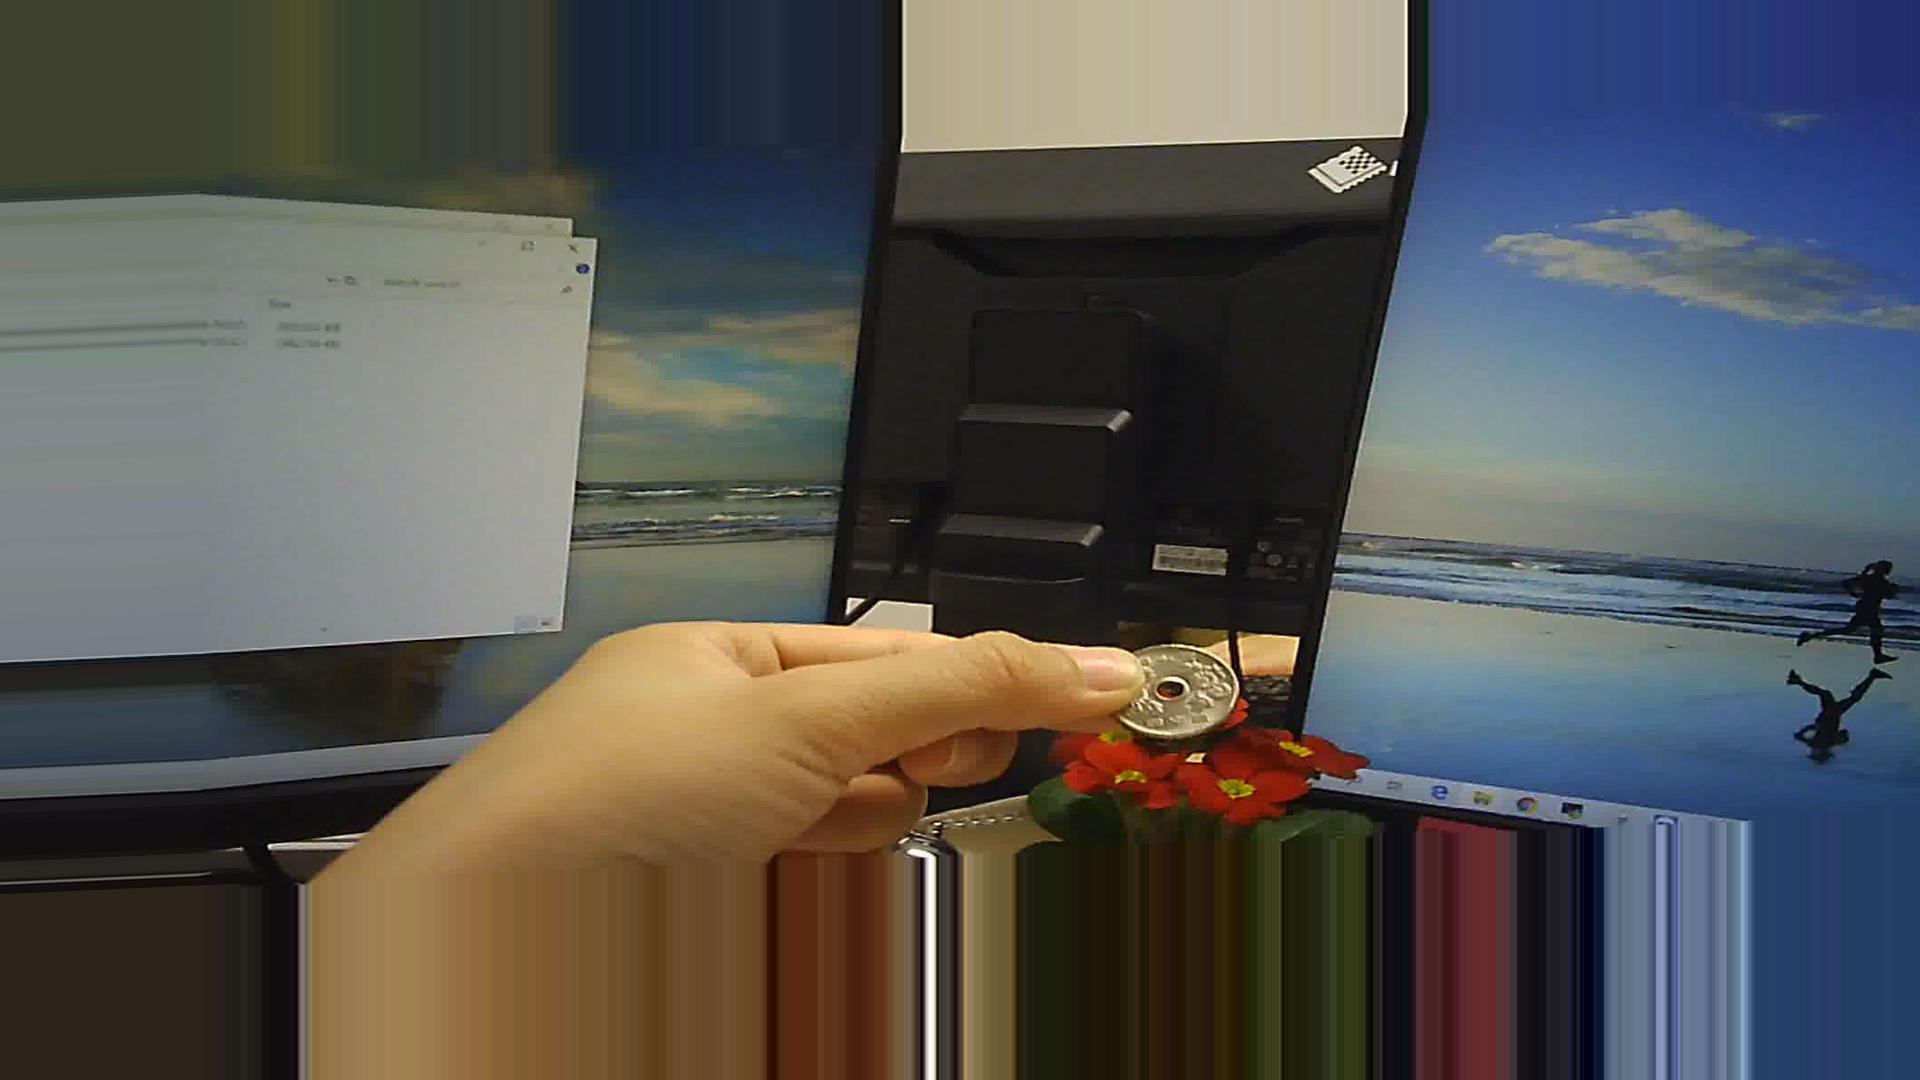50 Yen: (1104, 636, 1244, 738)
